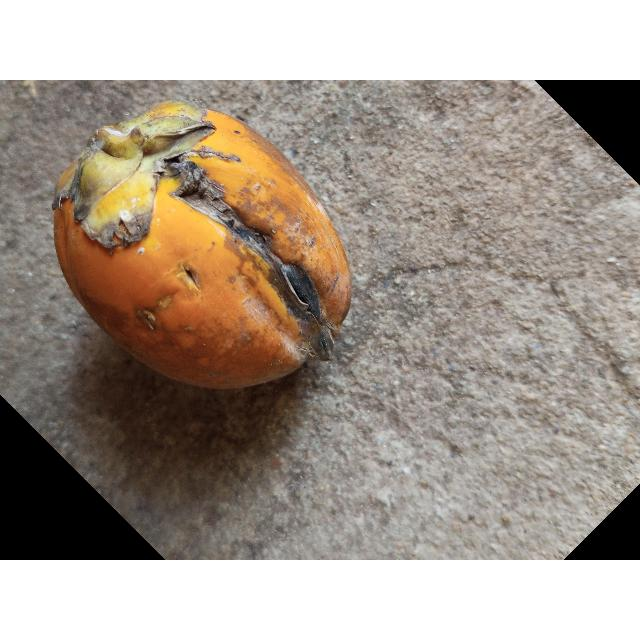damaged: (53, 101, 350, 388)
